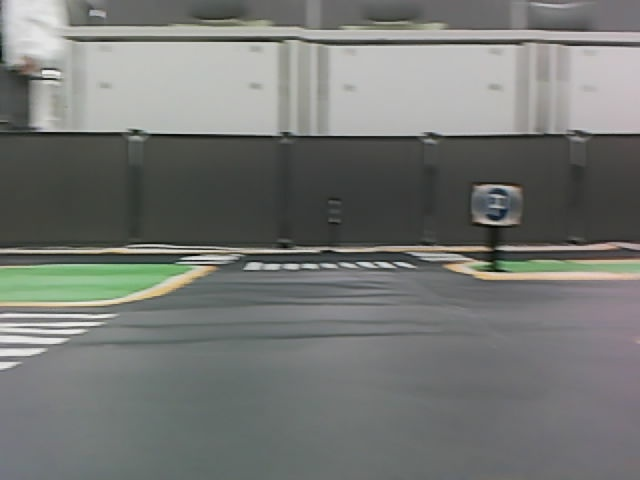crosswalk: (242, 259, 416, 273)
